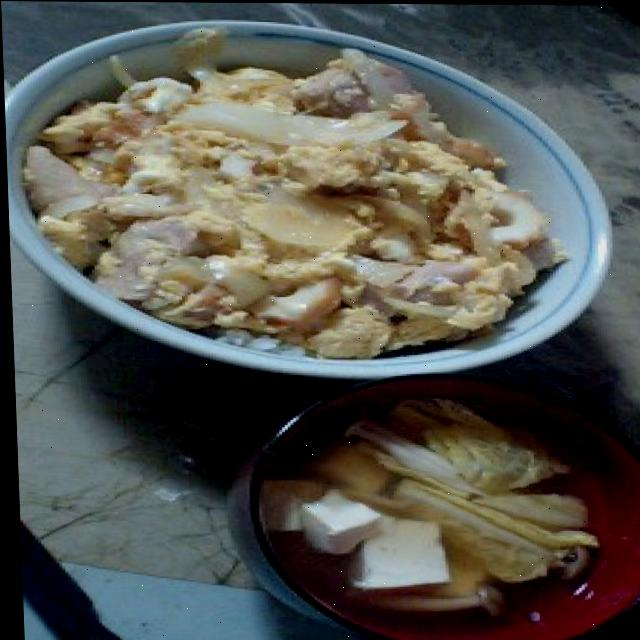米饭主食: (0, 5, 625, 390)
